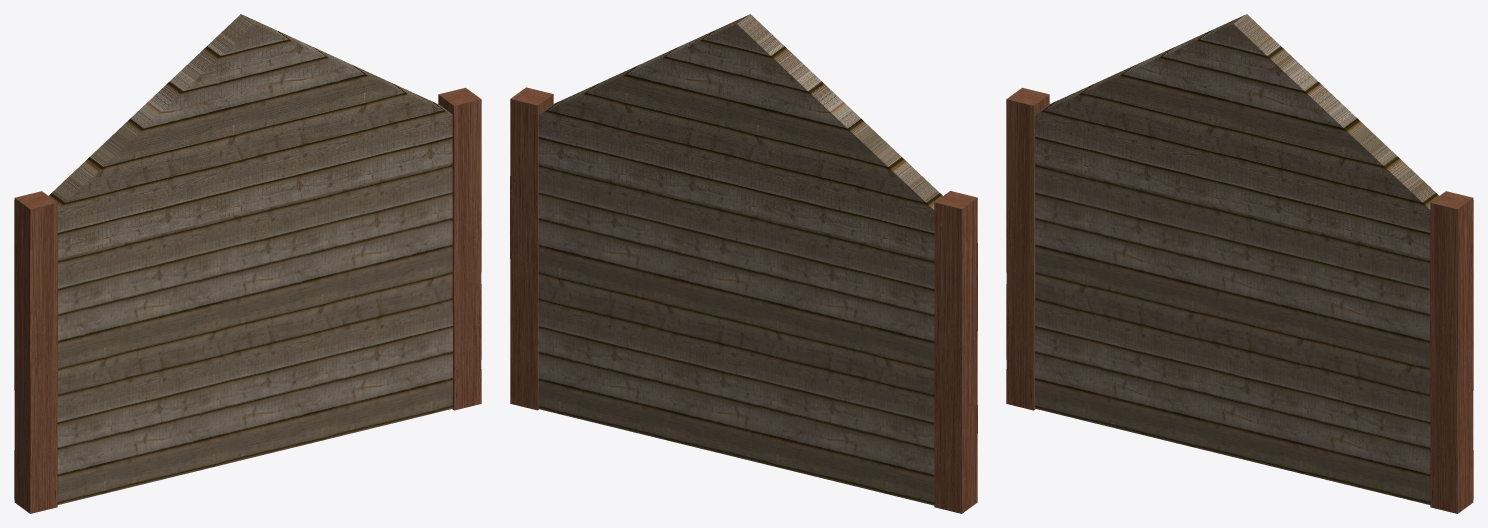
File: R1_Belakang.fbx
The picture shows the model from 3 angles, left to right: view 1: azimuth 30°, elevation 25°; view 2: azimuth 150°, elevation 25°; view 3: azimuth 330°, elevation 25°; orthographic projection.
Parts seen in each view (by area): view 1: Cube.016; view 2: Cube.016; view 3: Cube.016.
Part boxes in pixels (x1,y1,x2,y2): Cube.016: [14, 14, 481, 513]; Cube.016: [510, 14, 977, 513]; Cube.016: [1006, 14, 1473, 513].
Size of the model in its own units: 13.43 by 12.33 by 0.8348.
2 materials, 2 textured.
